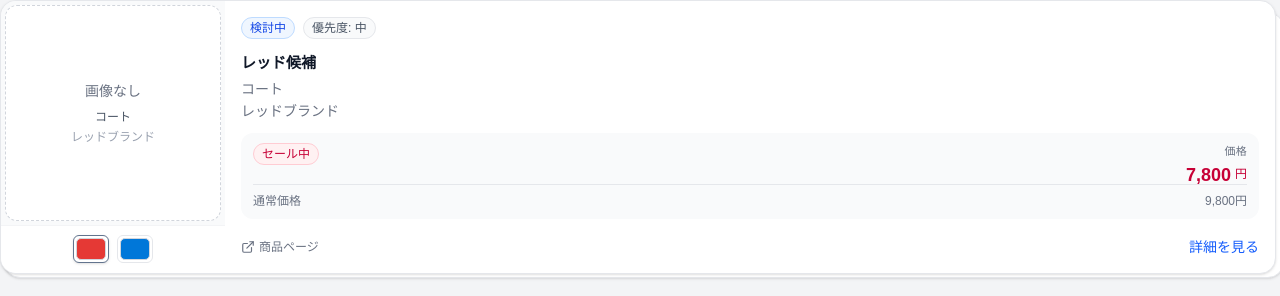
Test case: PurchaseCandidateListCard › group_order の先頭候補を表示し、スウォッチ切り替えで候補を切り替えられる
Expected: the link to "/purchase-candidates/1" is shown, [1, 1, 225, 225]
Expected: the link to "https://example.test/red" reads "商品ページ", [241, 238, 319, 254]
Click the button named "64 BLUEを表示" at (135, 249), box [117, 235, 153, 263]
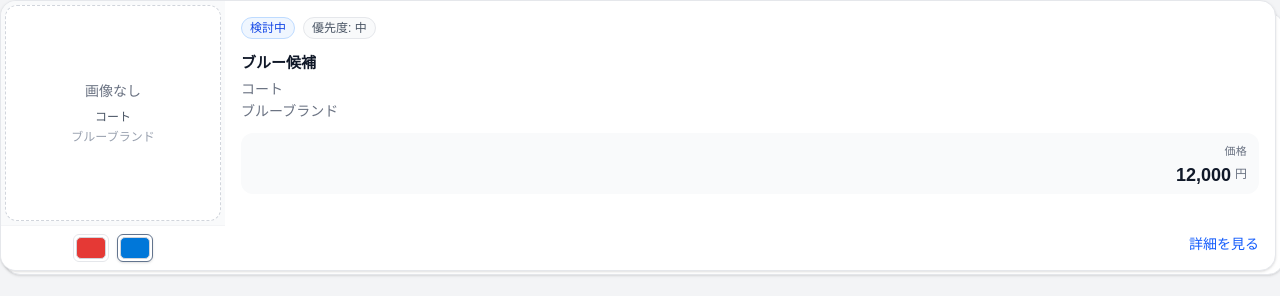
Now the text "ブルー候補" is shown, box [241, 54, 316, 71]
Now the text "ブルーブランド" is shown, box [71, 129, 155, 145]
Now the text "12,000" is shown, box [1176, 166, 1231, 184]
